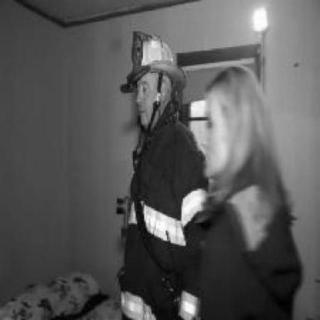other: (181, 194, 200, 216)
